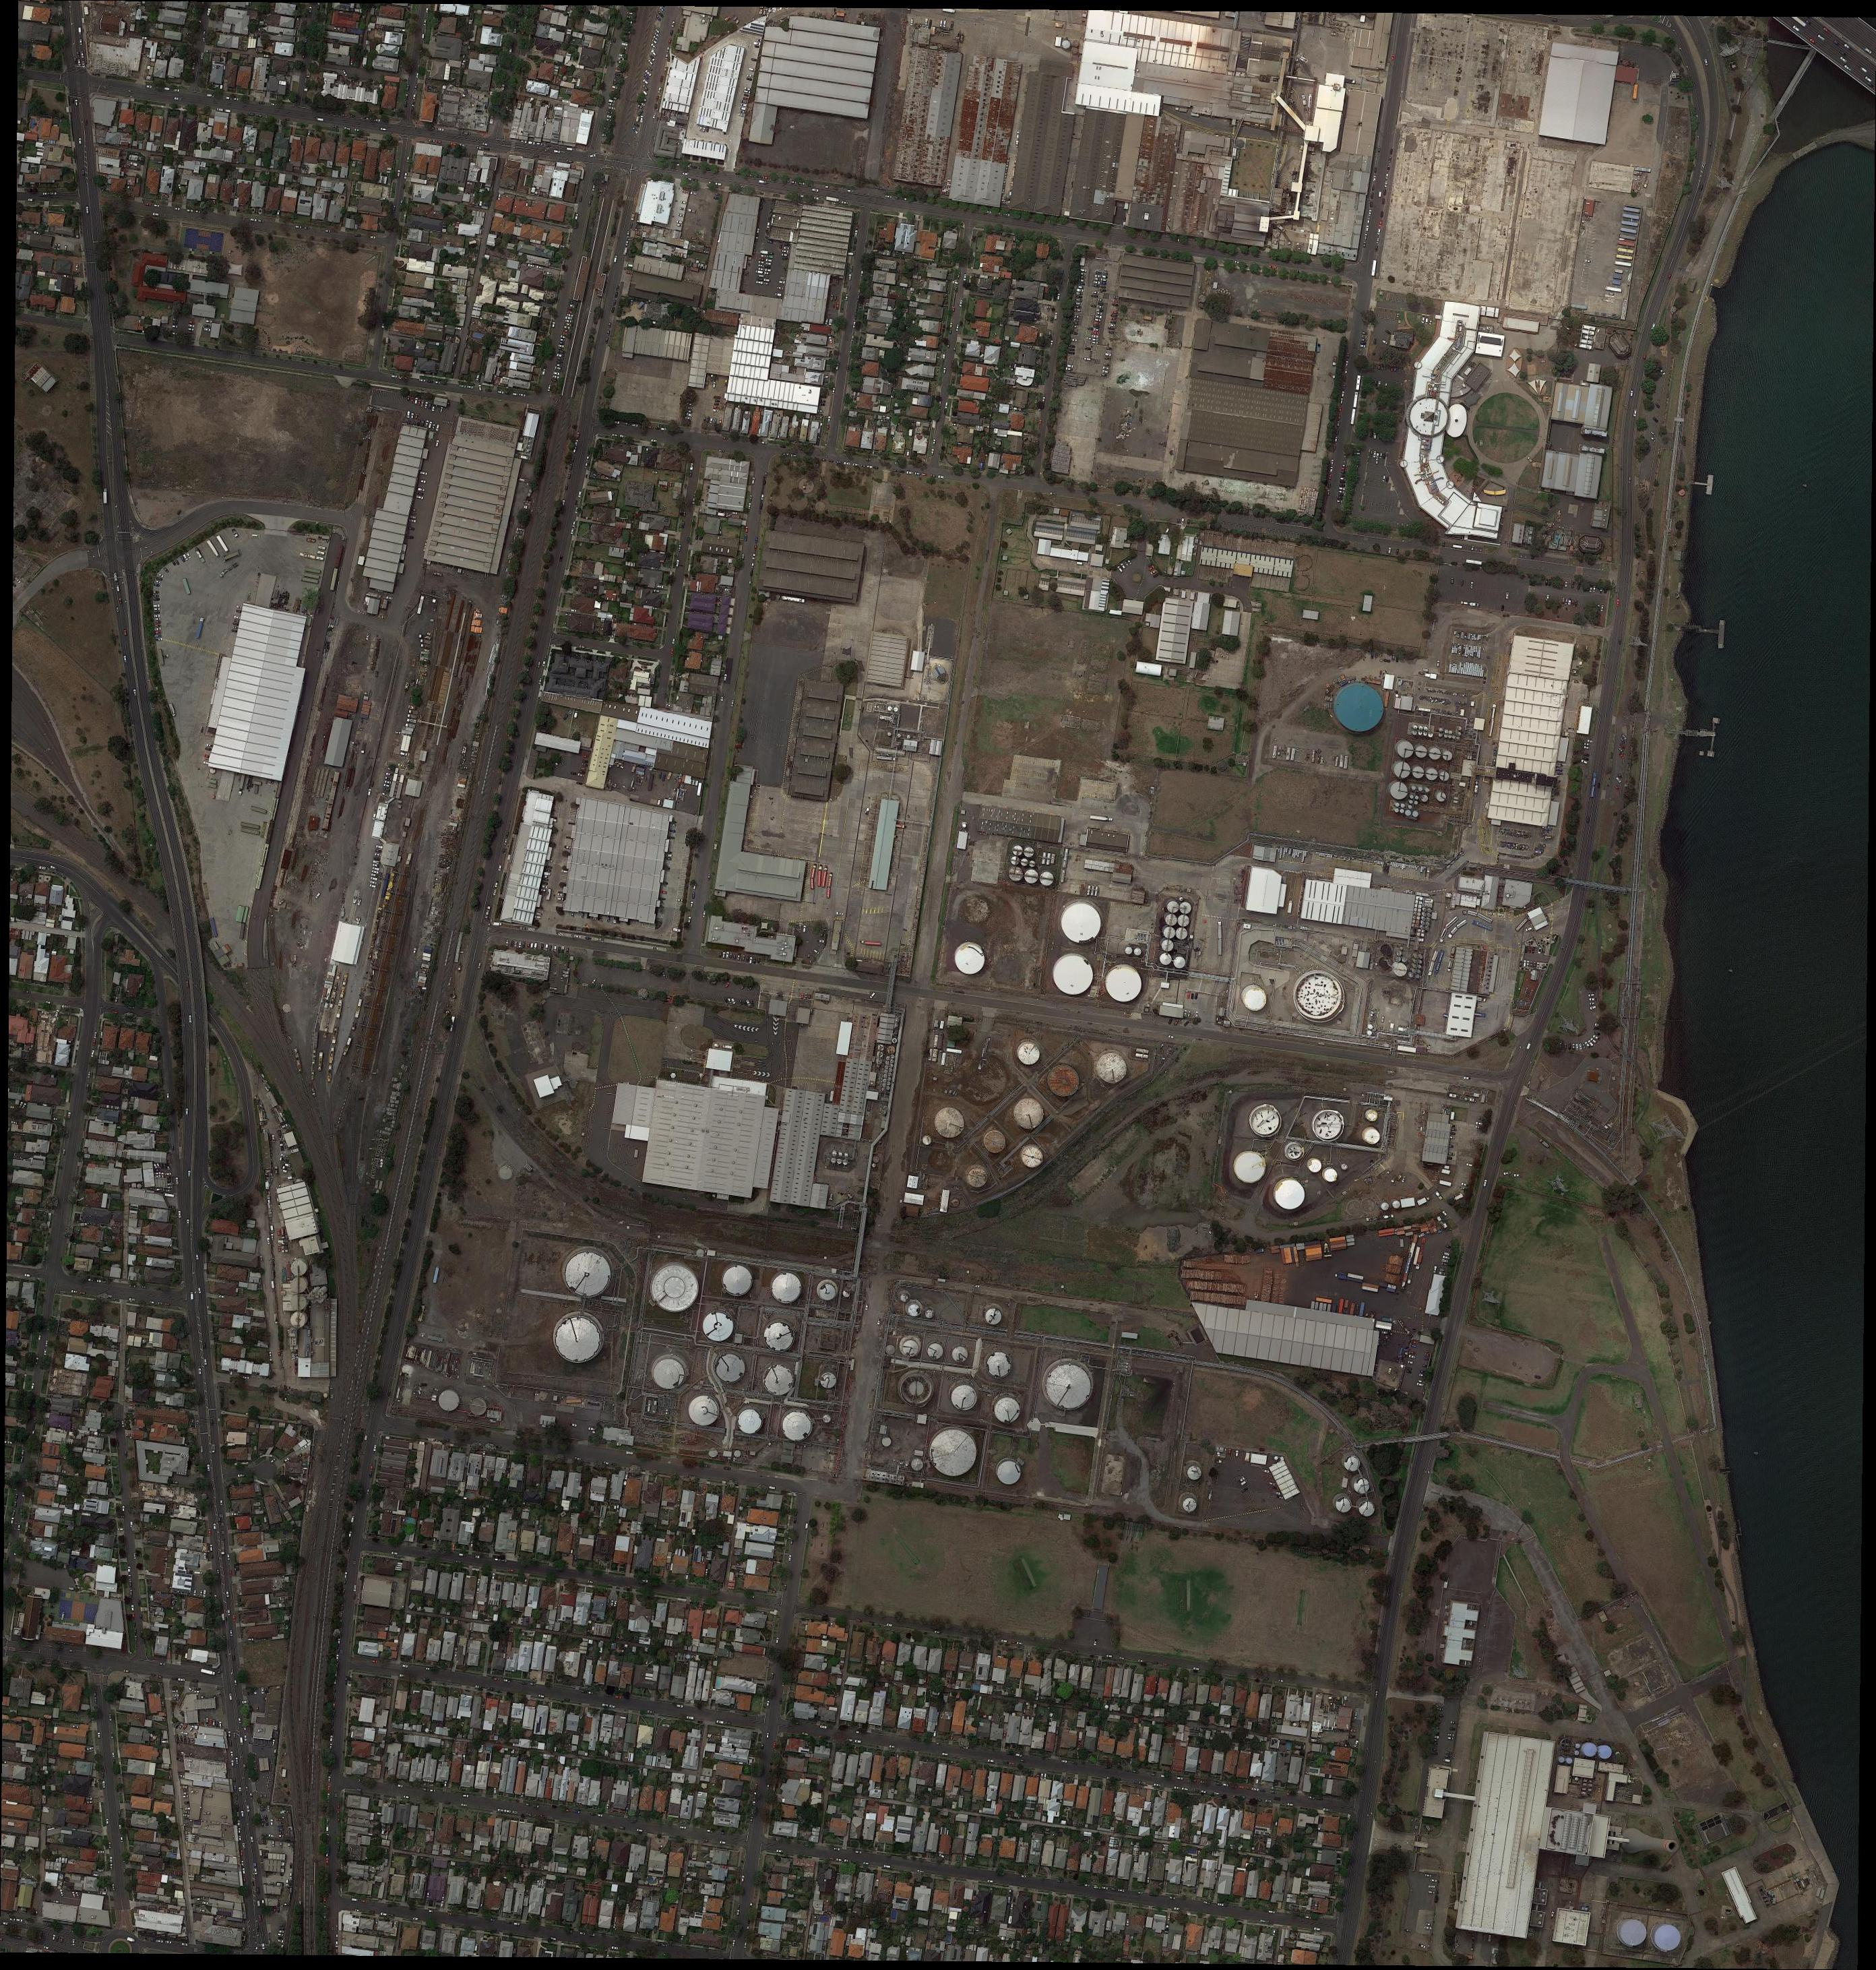harbor: (1718, 621, 1725, 649), (1705, 475, 1714, 496)
